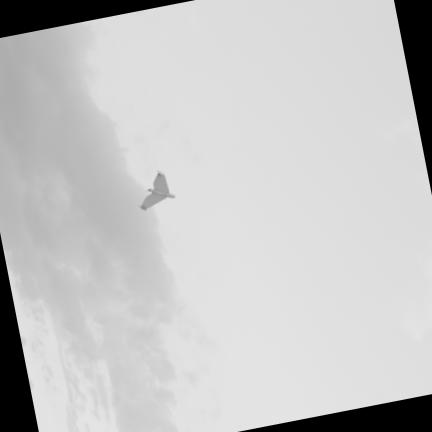Shahed: (140, 172, 174, 210)
